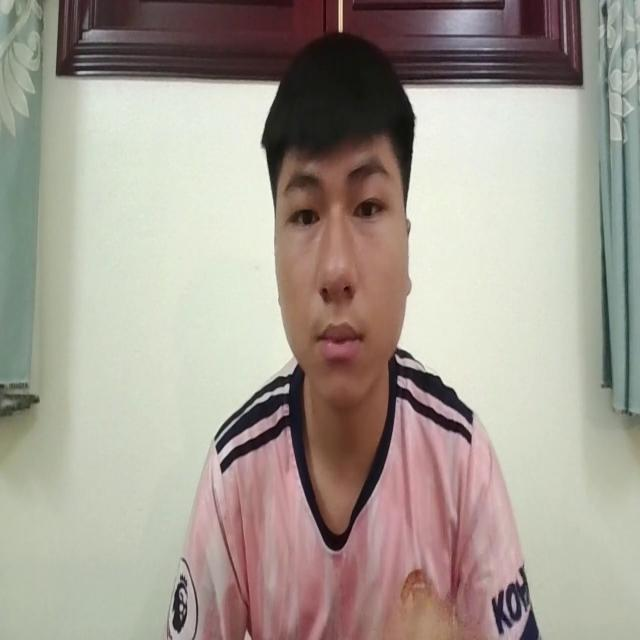student: (168, 22, 535, 640)
